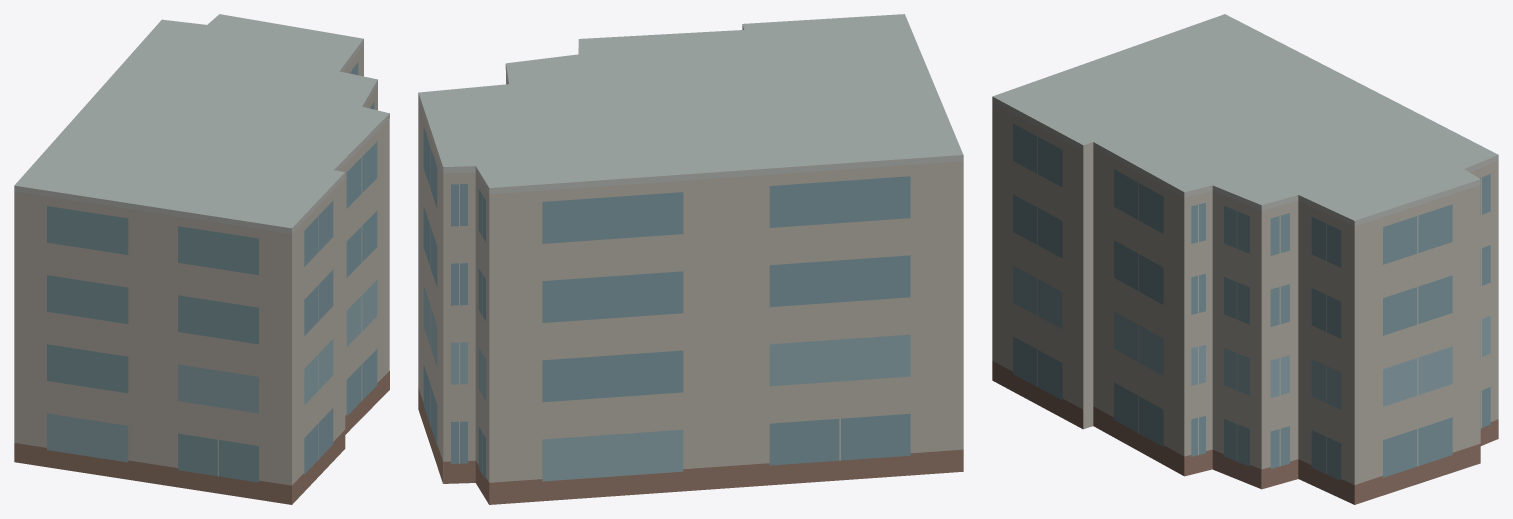
The model's file is survey-upis-32741861.glb.
The picture shows the model from 3 angles, left to right: view 1: azimuth 30°, elevation 25°; view 2: azimuth 150°, elevation 25°; view 3: azimuth 270°, elevation 25°; orthographic projection. The views are drawn at different scales.
Visible parts, largest first — view 1: survey-upis-32741861.tmp; view 2: survey-upis-32741861.tmp; view 3: survey-upis-32741861.tmp.
Boxes of the visible parts, x1,y1,x2,y2 form: survey-upis-32741861.tmp: [14, 14, 389, 504]; survey-upis-32741861.tmp: [418, 14, 963, 504]; survey-upis-32741861.tmp: [992, 14, 1498, 504].
Size of the model in its own units: 19.38 by 12.4 by 20.04.
